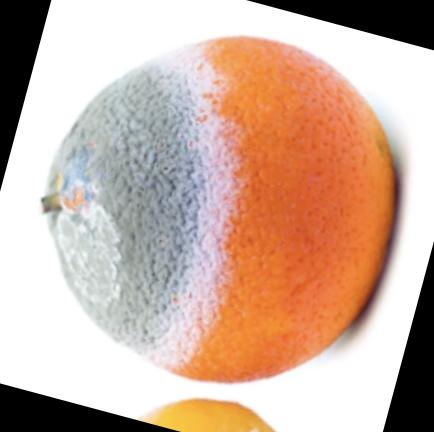Orange Rotten: (24, 33, 434, 390)
